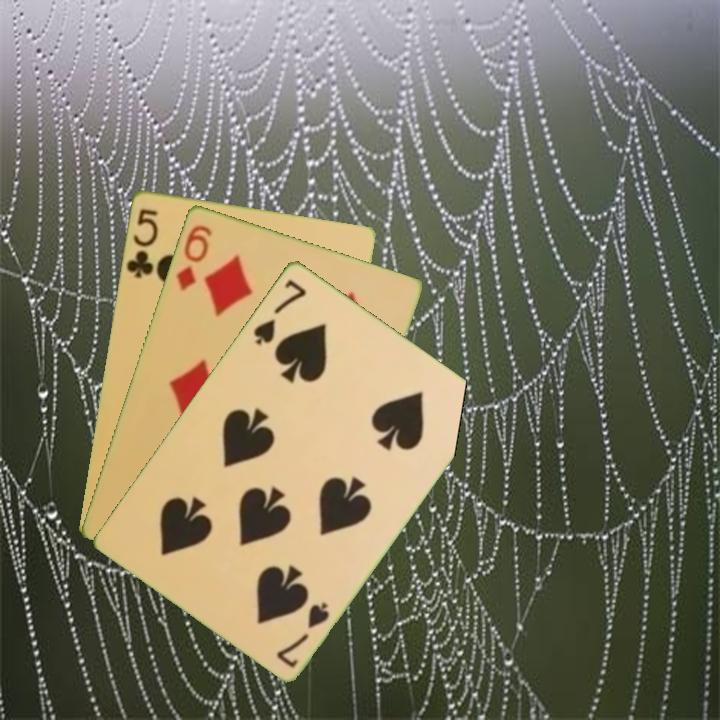5c: (122, 204, 161, 281)
6d: (172, 221, 214, 294)
7s: (249, 275, 310, 348), (272, 598, 332, 671)
